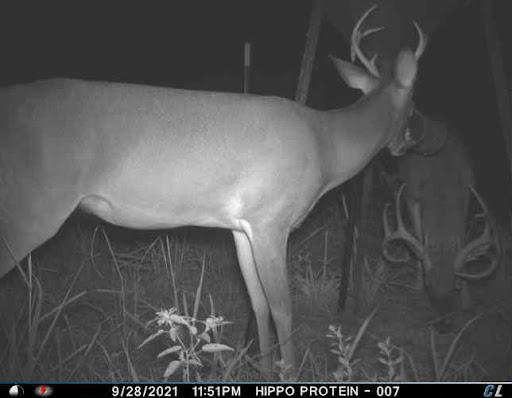Deer: (0, 1, 433, 383), (373, 99, 512, 336)
